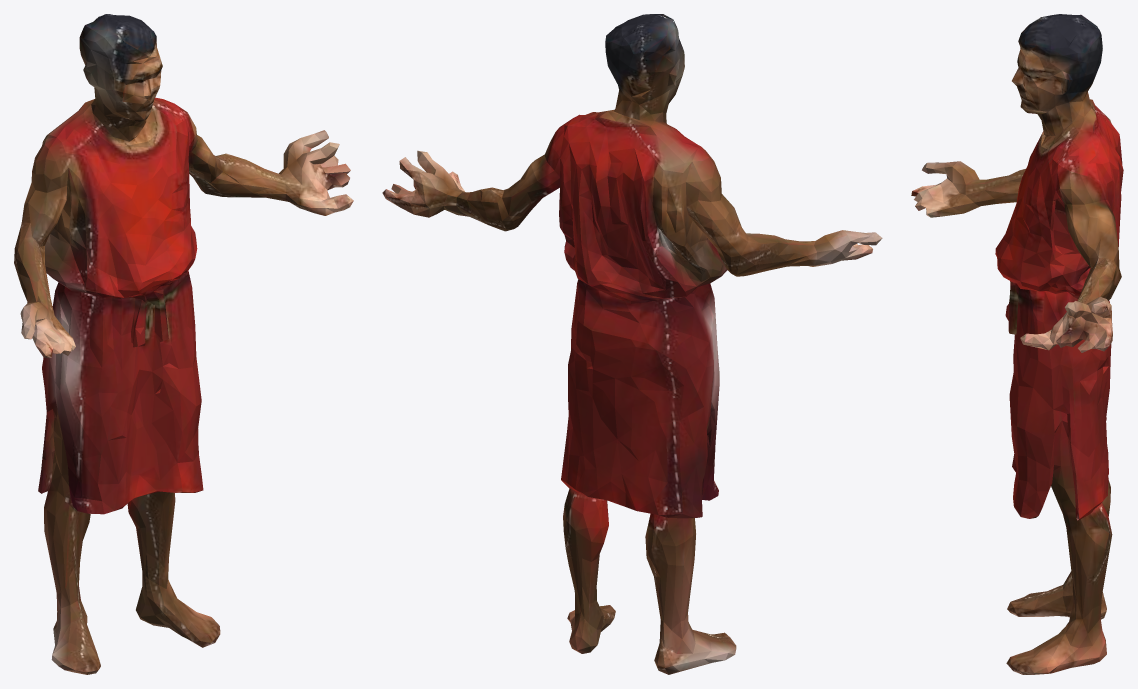
Rendered from aldeano.glb.
The picture shows the model from 3 angles, left to right: view 1: azimuth 30°, elevation 25°; view 2: azimuth 150°, elevation 25°; view 3: azimuth 270°, elevation 25°; orthographic projection. The views are drawn at different scales.
Parts seen in each view (by area): view 1: geometry_0; view 2: geometry_0; view 3: geometry_0.
Part boxes in pixels (x1,y1,x2,y2): geometry_0: (14,14,353,674); geometry_0: (382,14,882,674); geometry_0: (911,14,1123,674).
Size of the model in its own units: 0.6754 by 1 by 0.3102.
1 material, 1 textured.
